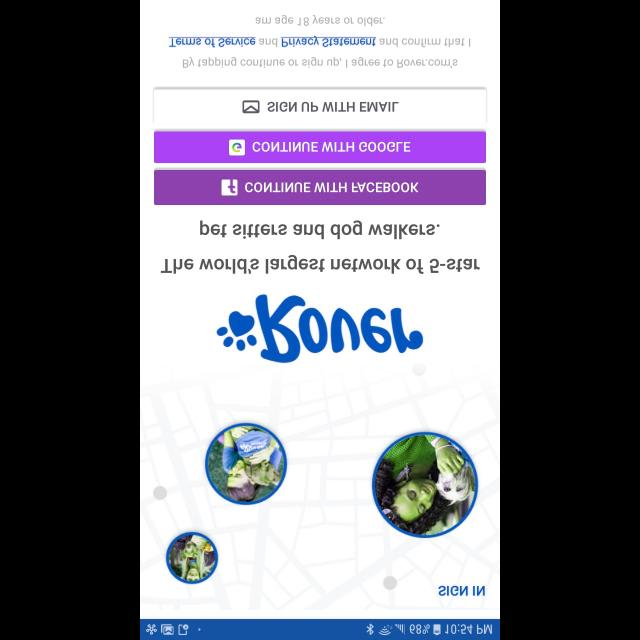image: (216, 294, 424, 362), (372, 431, 478, 537), (205, 423, 287, 505), (166, 531, 218, 583)
text: (170, 15, 470, 69), (162, 254, 480, 274), (200, 220, 440, 240), (438, 584, 486, 596)
textbutton: (154, 89, 486, 125), (154, 170, 486, 204), (154, 131, 486, 163)
uppertaskbar: (140, 618, 500, 640)
